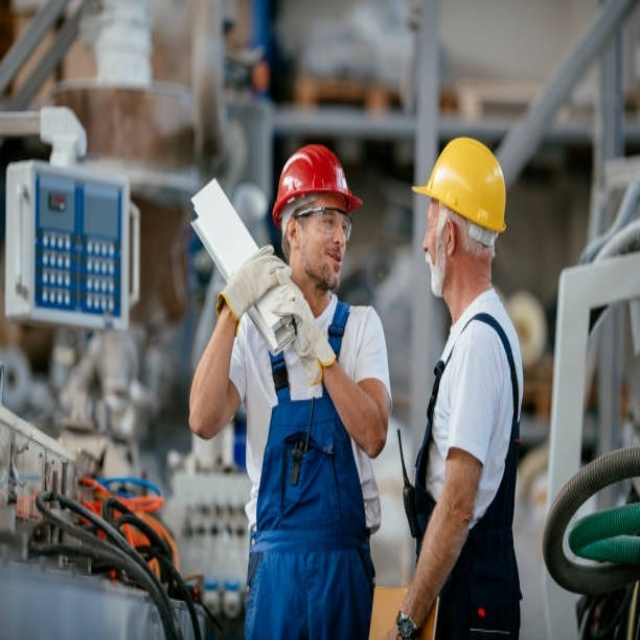Gafas: (296, 204, 355, 242)
Guantes: (265, 277, 334, 384), (218, 246, 289, 326)
Sin_gafas: (424, 201, 441, 232)
Sin_mascara: (422, 237, 448, 292), (321, 245, 344, 281)
